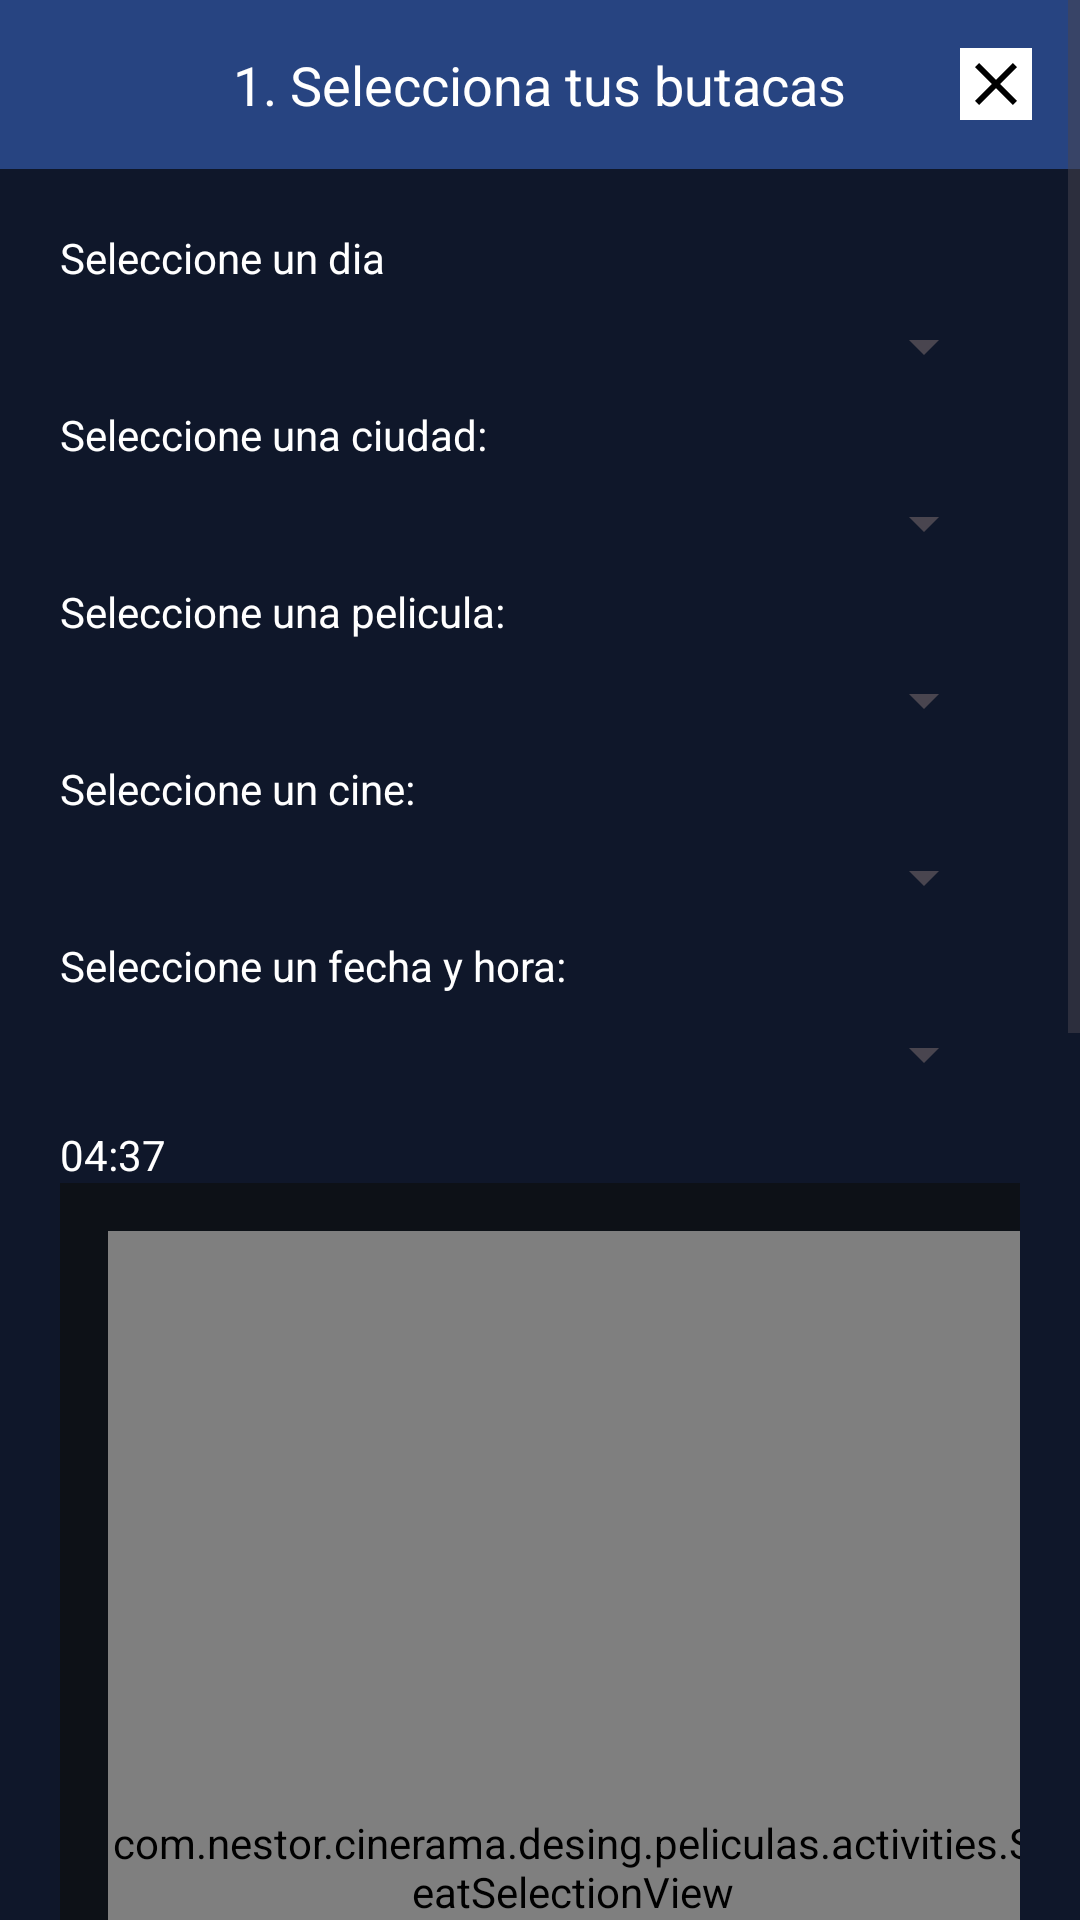

Icon click points for this 1080w x 1920h phone screenshot, format (x,y):
close: (996,84)
